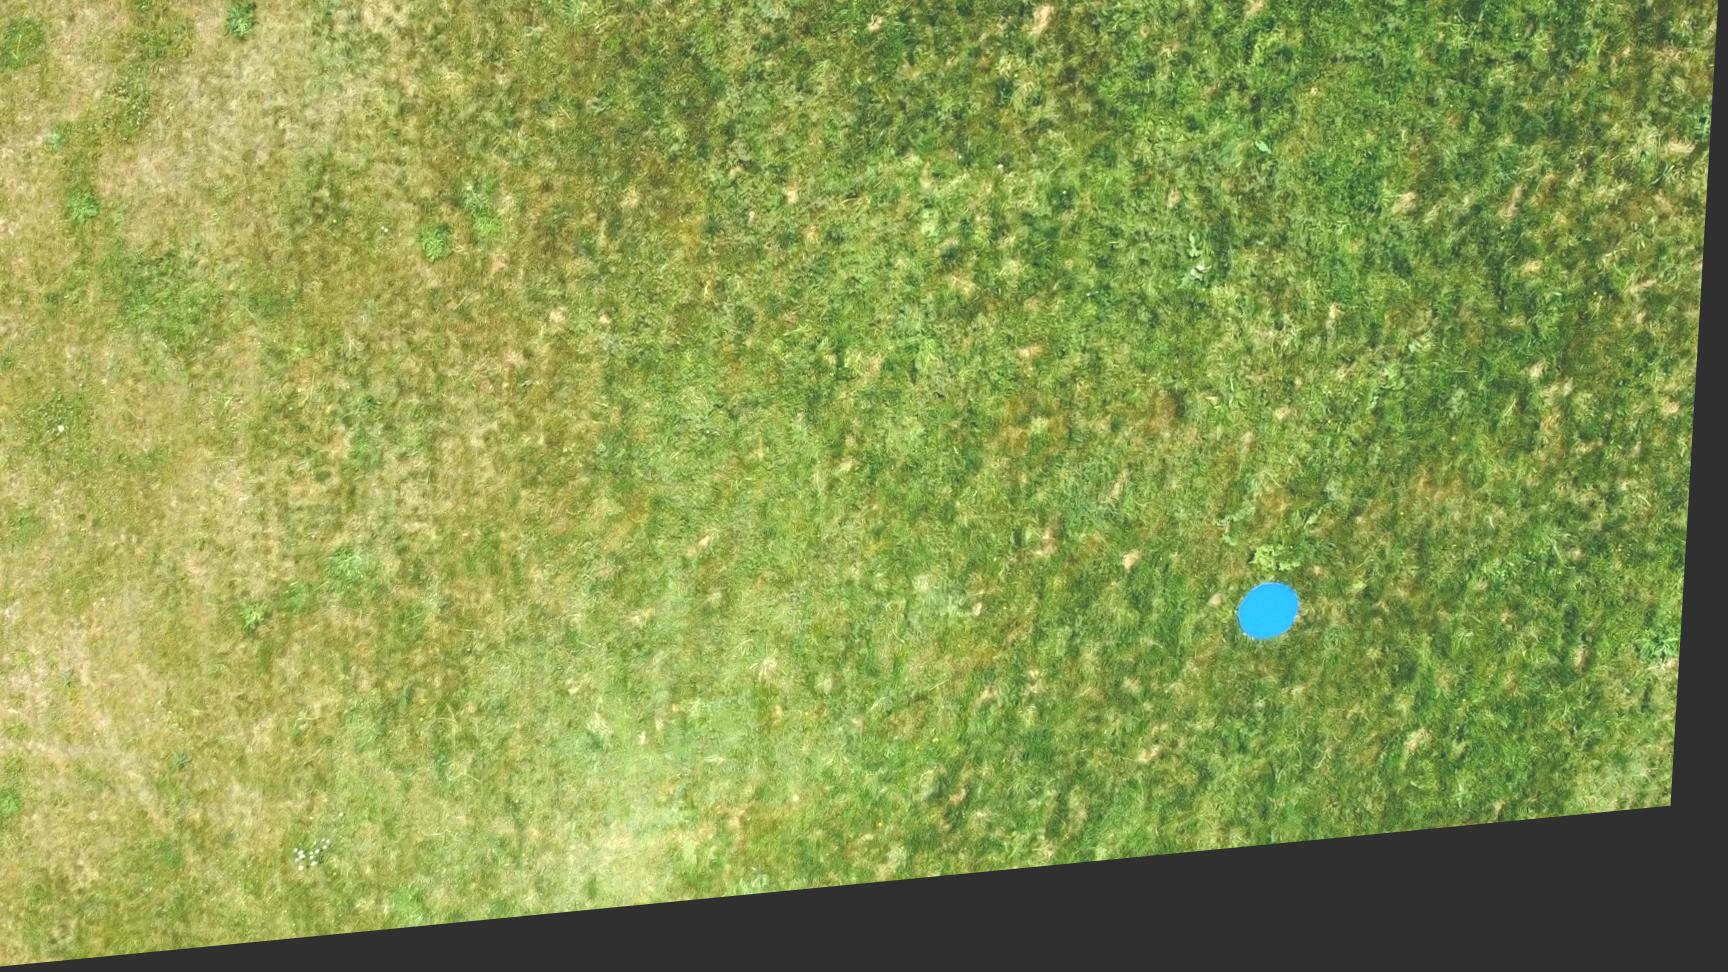Blue: (1243, 605, 1313, 671)
